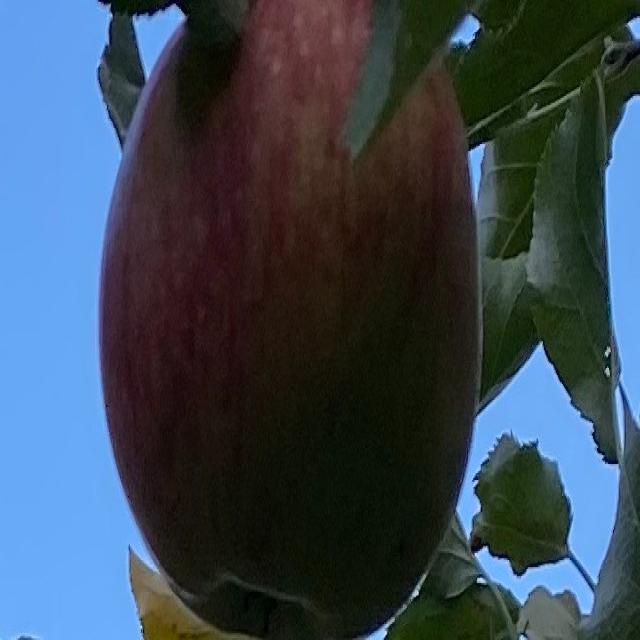100-_ripeness: (100, 0, 484, 638)
